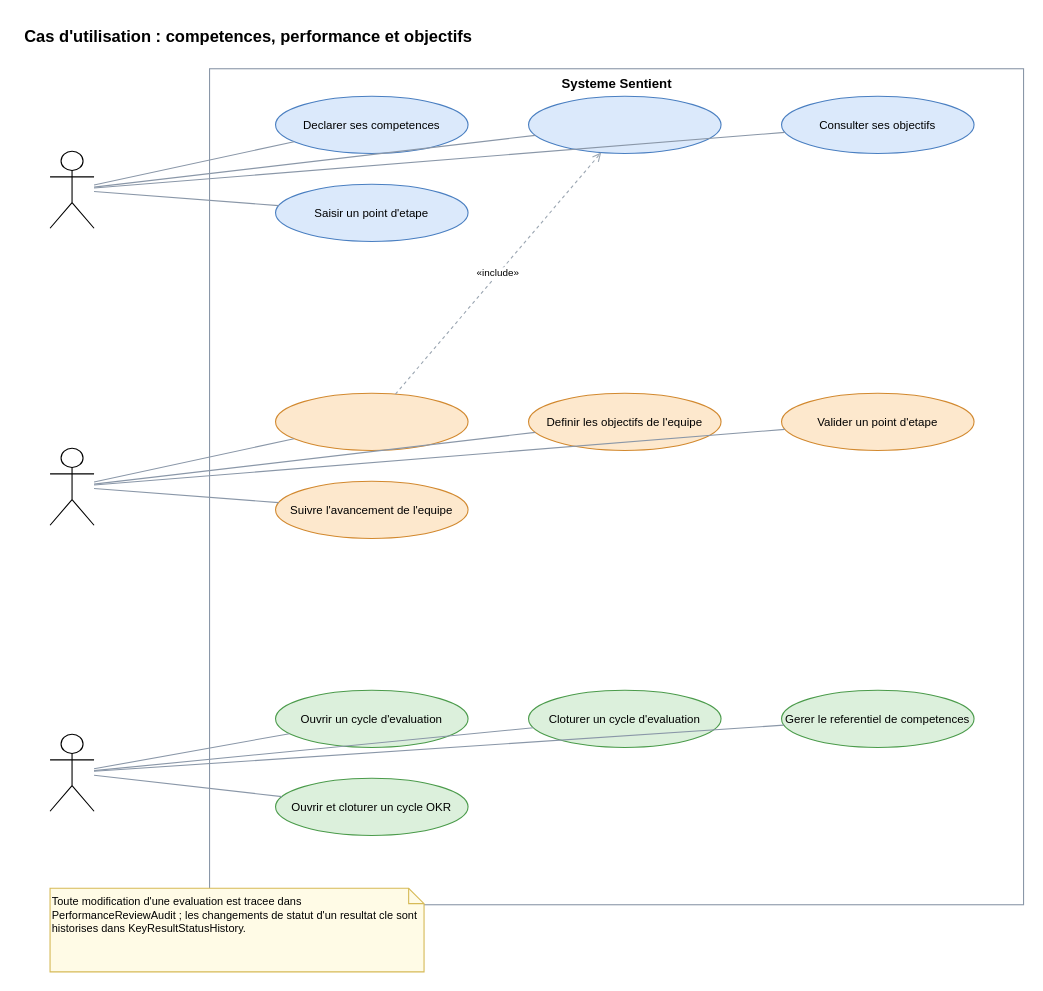
The diagram is 1043 pixels wide and 991 high, and some of its shapes have lost their labels. Here are the shapes that lost their labels. From the top down, the box of each, then its label:
(527, 95, 721, 153): Rediger son auto-evaluation
(49, 150, 94, 228): Employe
(274, 392, 468, 450): Evaluer un collaborateur
(49, 447, 94, 525): Manager
(49, 733, 94, 811): Administrateur RH
